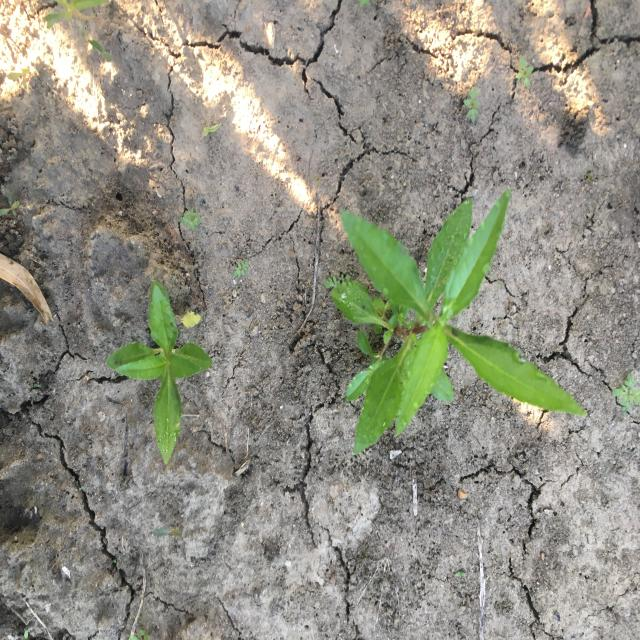Eclipta: (331, 187, 588, 457), (105, 278, 214, 467)
Ragweed: (610, 370, 639, 417)
